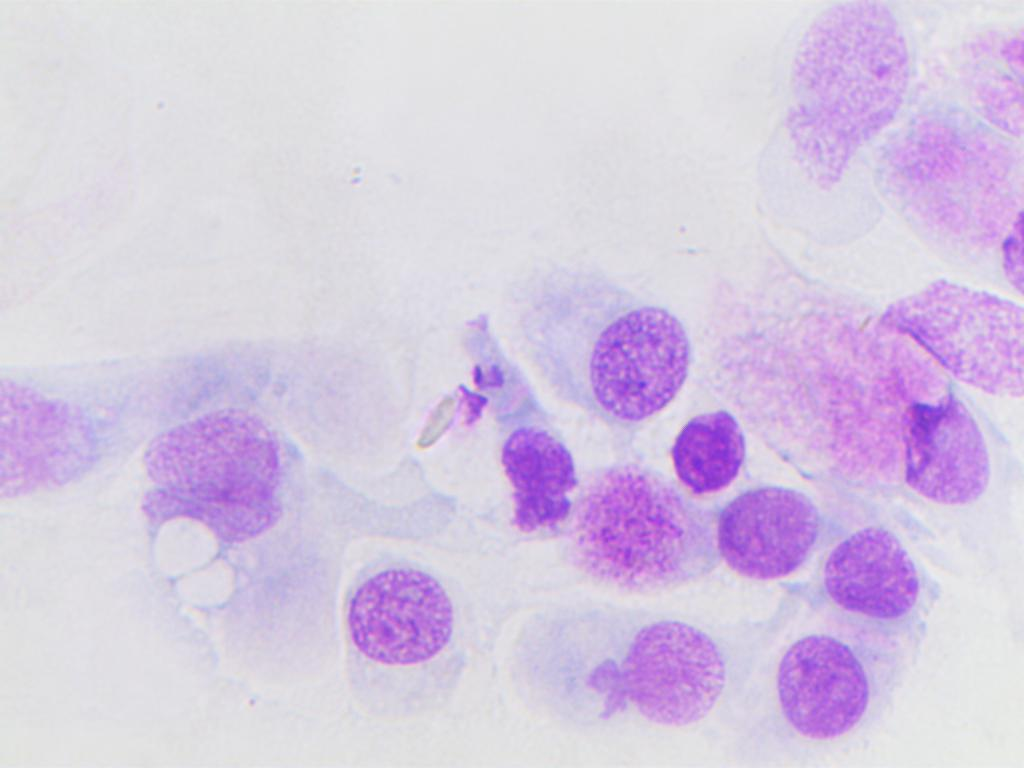epithelial: (507, 604, 747, 766), (127, 380, 298, 559), (521, 259, 693, 420), (777, 7, 908, 211), (342, 554, 510, 713), (752, 617, 893, 767), (895, 102, 1024, 265), (440, 414, 579, 543), (577, 464, 689, 598), (814, 499, 926, 619), (708, 480, 827, 591), (662, 403, 743, 496)
goblet_cell: (723, 282, 994, 503)
